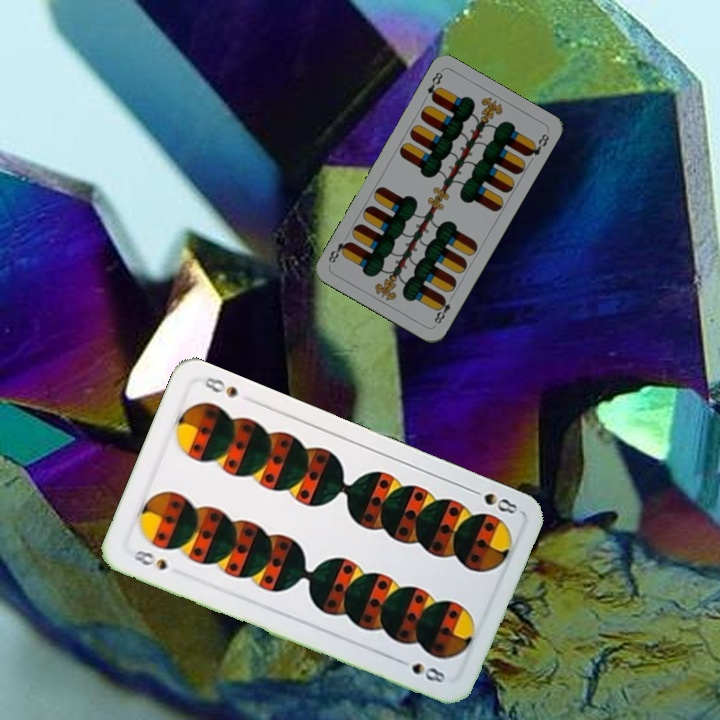E8: (430, 291, 456, 328), (423, 68, 446, 104)
S8: (464, 484, 520, 517), (126, 546, 170, 573)
